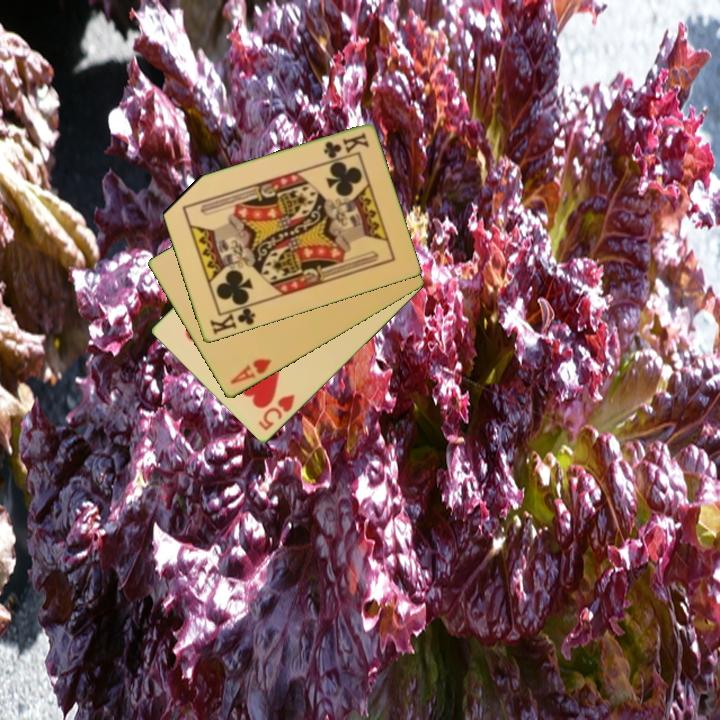5h: (255, 391, 298, 434)
Ah: (226, 355, 274, 388)
Kc: (206, 301, 258, 338), (319, 129, 372, 162)
